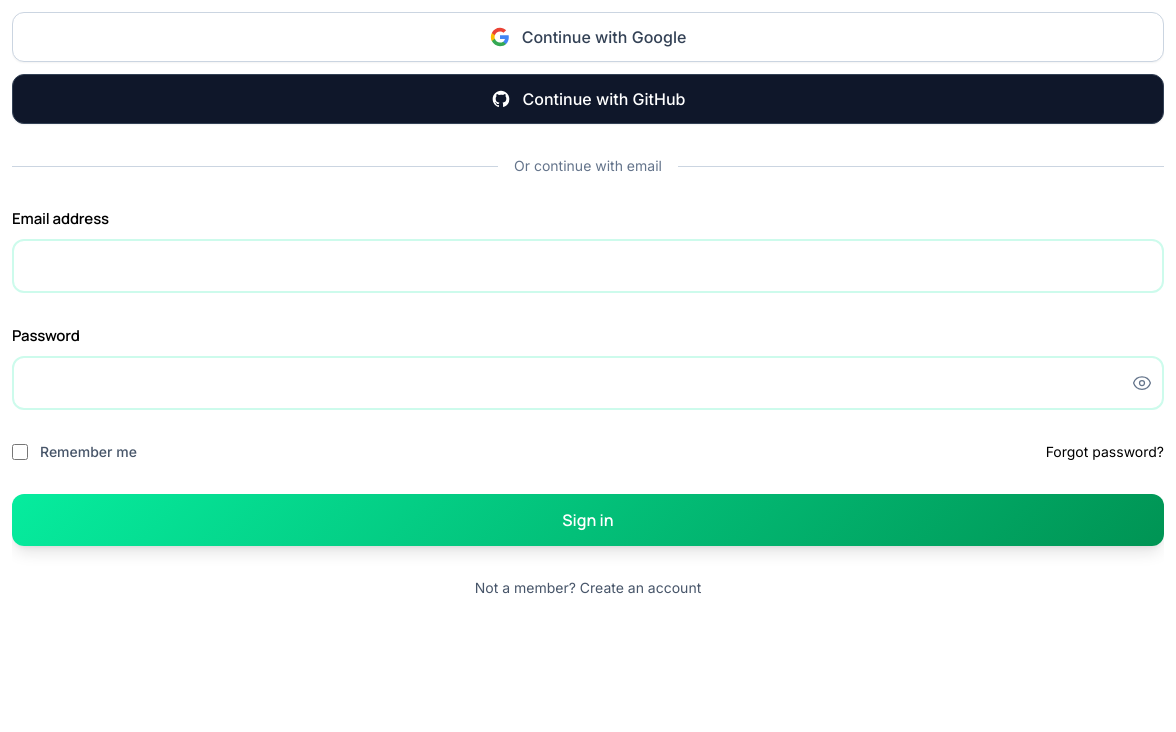
Test case: LoginForm Component › shows error message on login failure
The image size is (1176, 732).
In the field labelled "Email address": [588, 266] box [12, 238, 1164, 293], type "test@example.com"
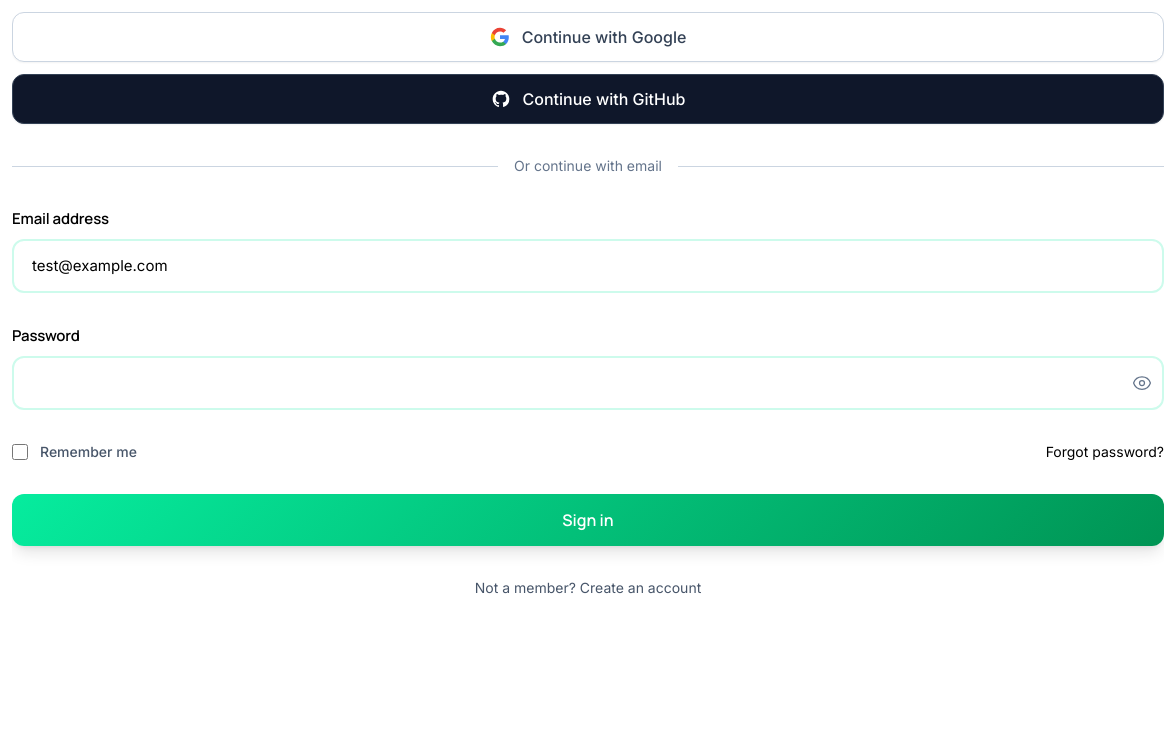
In the password field labelled "Password": [588, 383] box [12, 356, 1164, 410], type "WrongPassword123!"
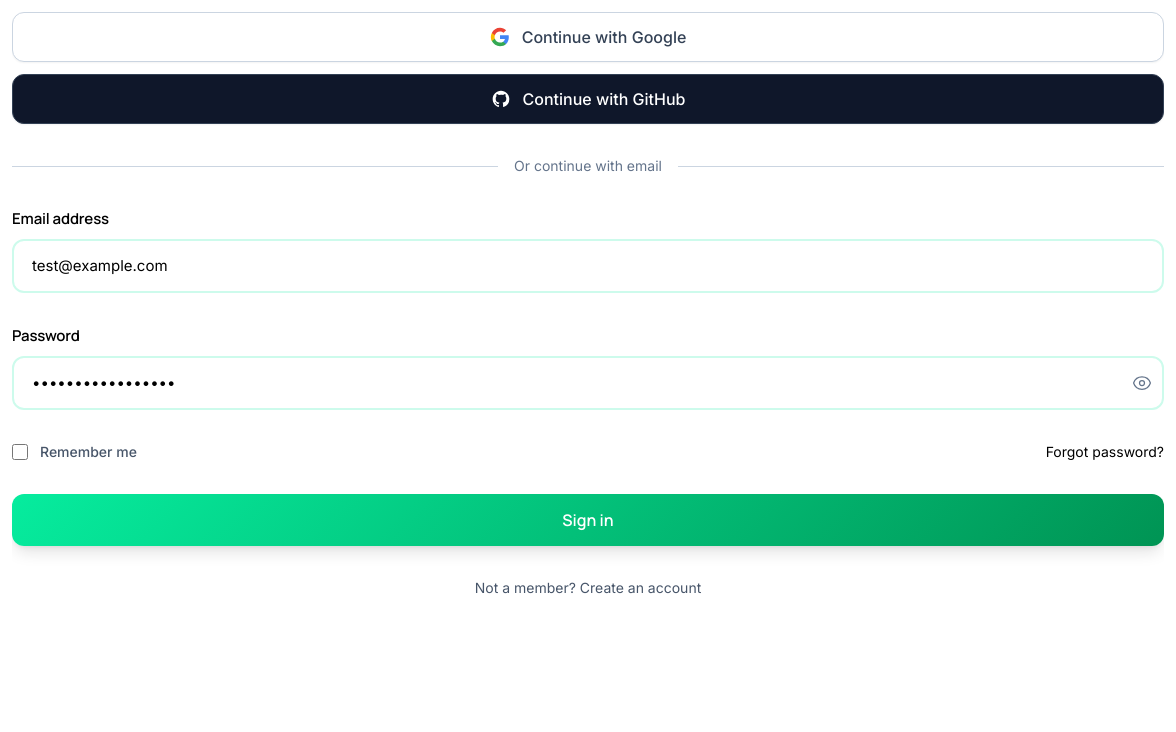
Click the button "Sign in": [588, 520] box [12, 494, 1164, 546]
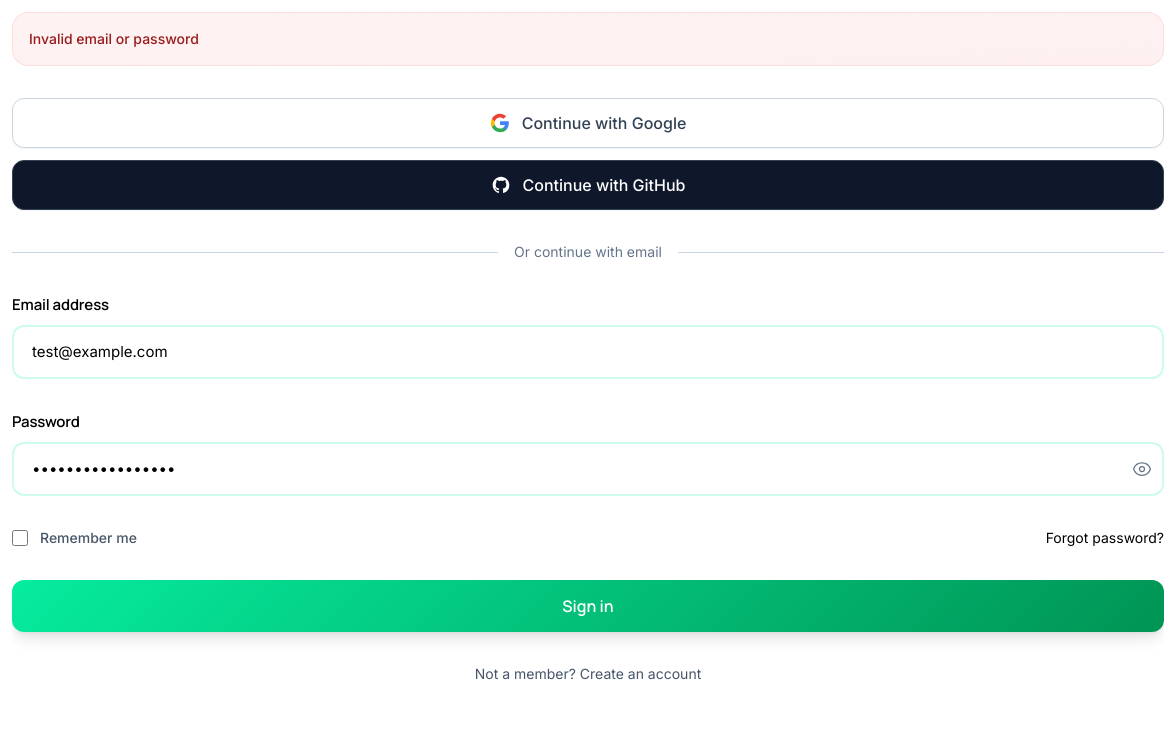
expect the text "Invalid email or password" is shown: met, box [29, 30, 199, 47]
